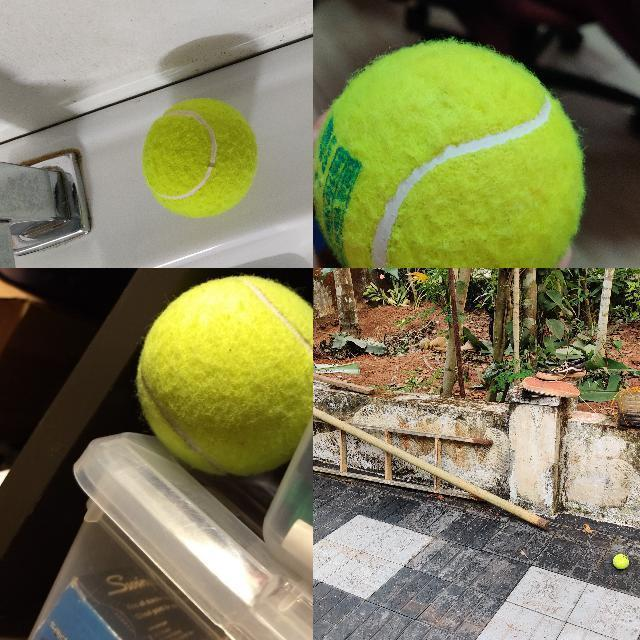tennis-ball: (314, 42, 584, 267), (135, 270, 306, 433), (140, 96, 259, 219), (612, 553, 629, 569)
